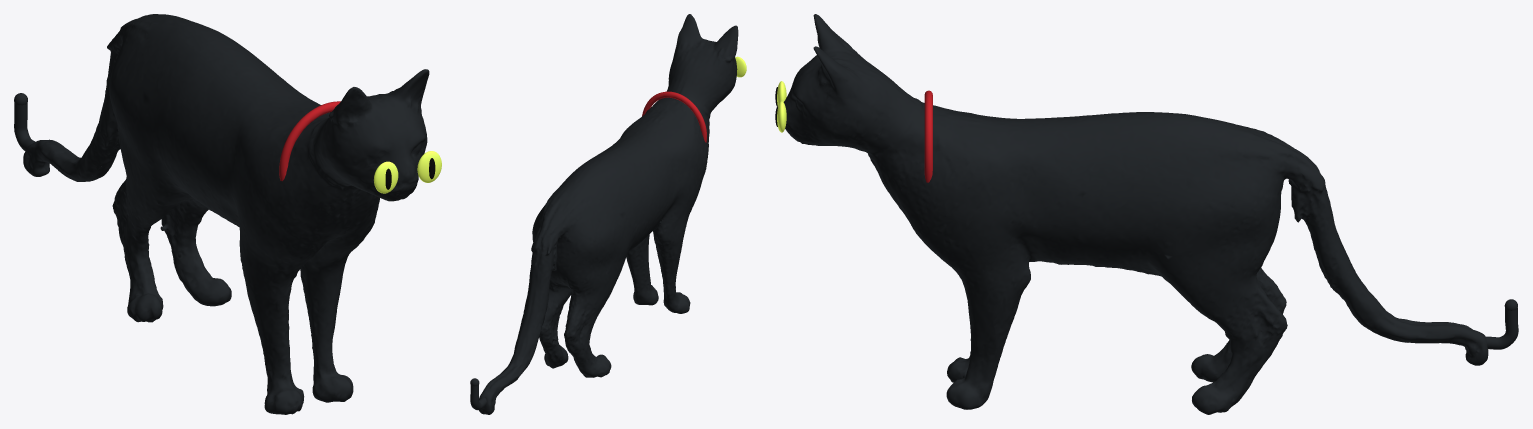
Rendered from nanami.glb.
3 views of the same model, side by side, from view 1: azimuth 30°, elevation 25°; view 2: azimuth 150°, elevation 25°; view 3: azimuth 270°, elevation 25° (orthographic). The views are drawn at different scales.
Visible parts, largest first — view 1: object 1, Nanami collar, Nanami kinked tail, Nanami iris left, Nanami iris right; view 2: object 1, Nanami collar, Nanami kinked tail; view 3: object 1, Nanami collar, Nanami kinked tail.
Part boxes in pixels (x1=…): object 1: x1=23, y1=14, x2=429, y2=414; Nanami collar: x1=279, y1=101, x2=340, y2=181; Nanami kinked tail: x1=14, y1=103, x2=35, y2=151; Nanami iris left: x1=374, y1=161, x2=398, y2=193; Nanami iris right: x1=417, y1=151, x2=441, y2=182; object 1: x1=478, y1=14, x2=738, y2=414; Nanami collar: x1=642, y1=91, x2=706, y2=142; Nanami kinked tail: x1=470, y1=385, x2=486, y2=410; object 1: x1=783, y1=14, x2=1488, y2=414; Nanami collar: x1=924, y1=90, x2=932, y2=182; Nanami kinked tail: x1=1485, y1=308, x2=1518, y2=349.
Bounding box in the file's own units: 0.3525 × 1.14 × 2.1.
